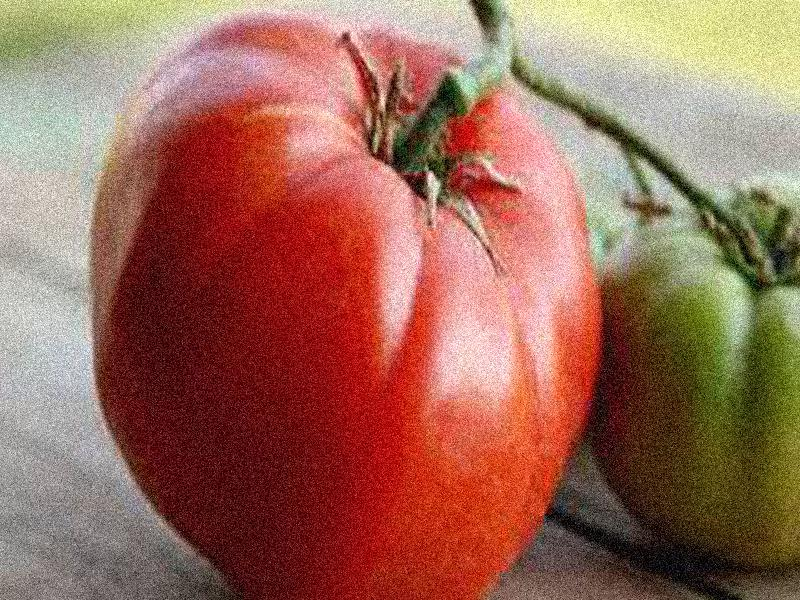Tomato: (87, 11, 598, 600)
